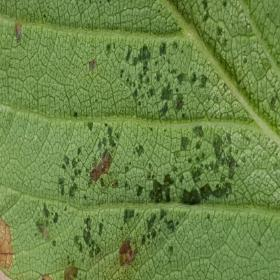Angular Leafspot: (0, 0, 279, 279)
